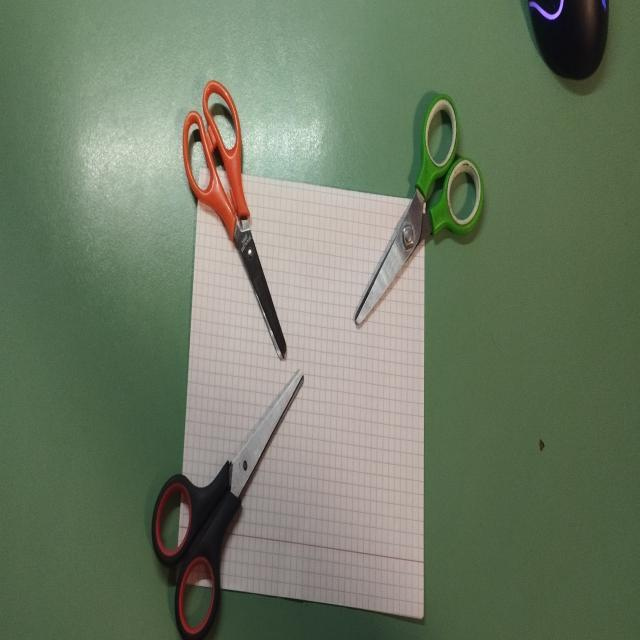tesoura: (137, 359, 311, 640), (167, 60, 296, 380), (352, 88, 484, 330)
